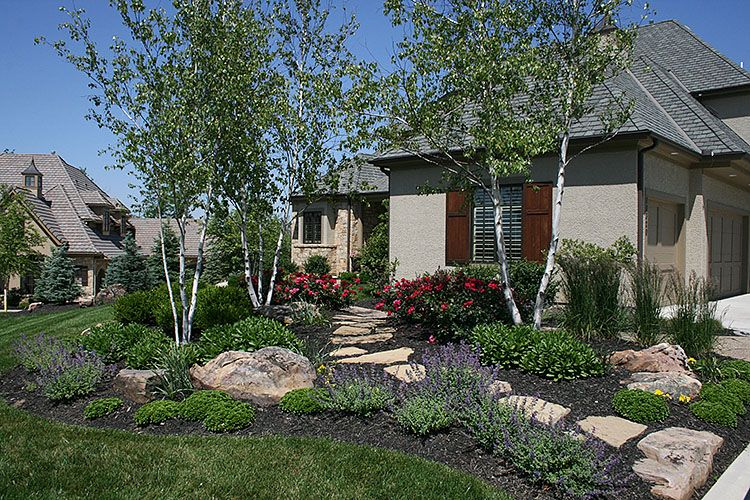tree: (389, 9, 629, 335), (47, 5, 243, 350), (201, 11, 369, 312)
